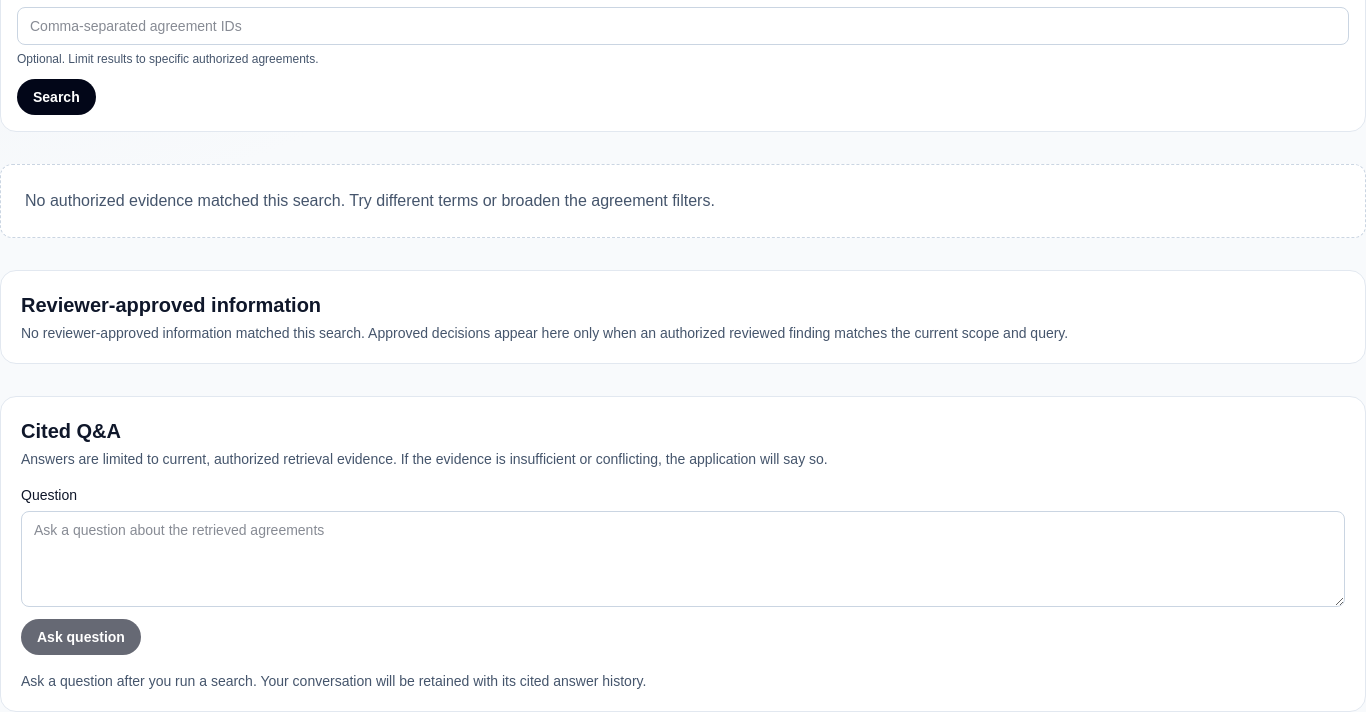
Scenario: SearchWorkspace › submits a question through the scoped thread adapter
(page scrolled)
Type "What are the termination rights?" into the text box labelled "Question" at (683, 559), box [21, 511, 1345, 607]
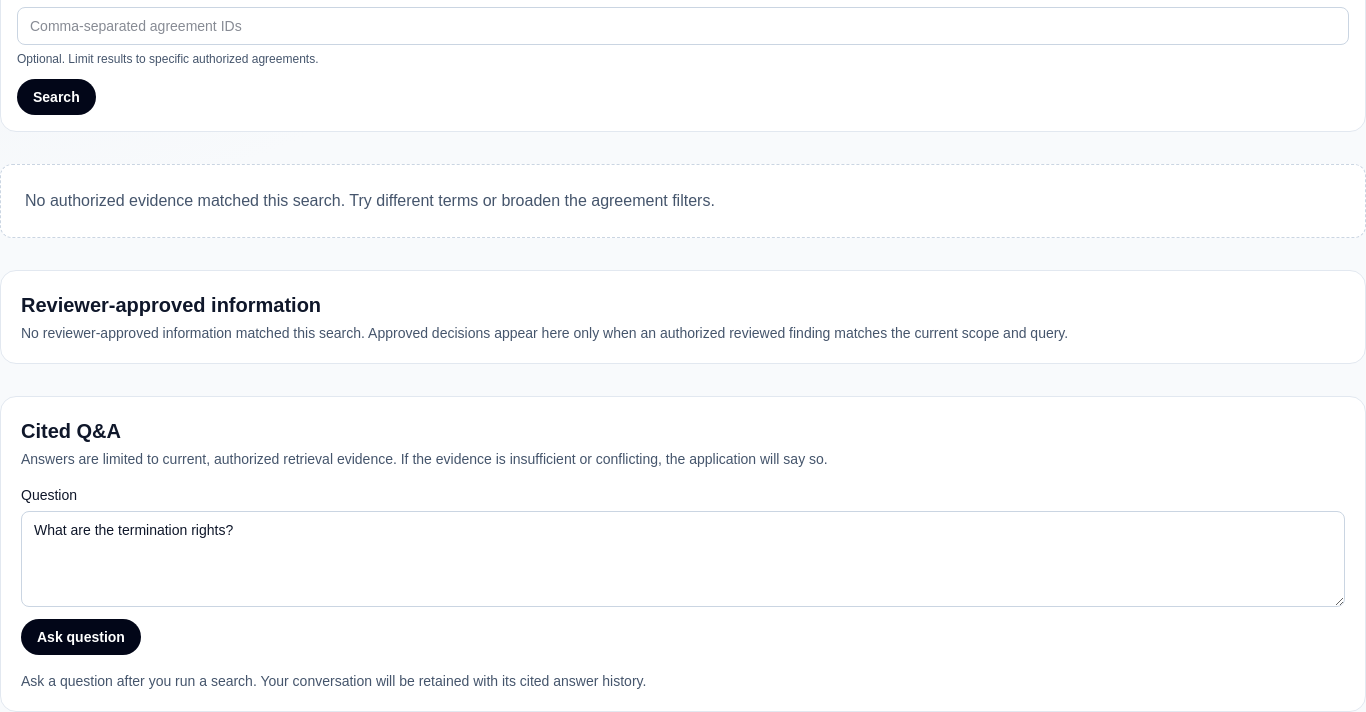
Click the button "Ask question" at (81, 637), box [21, 619, 141, 655]
(page scrolled)
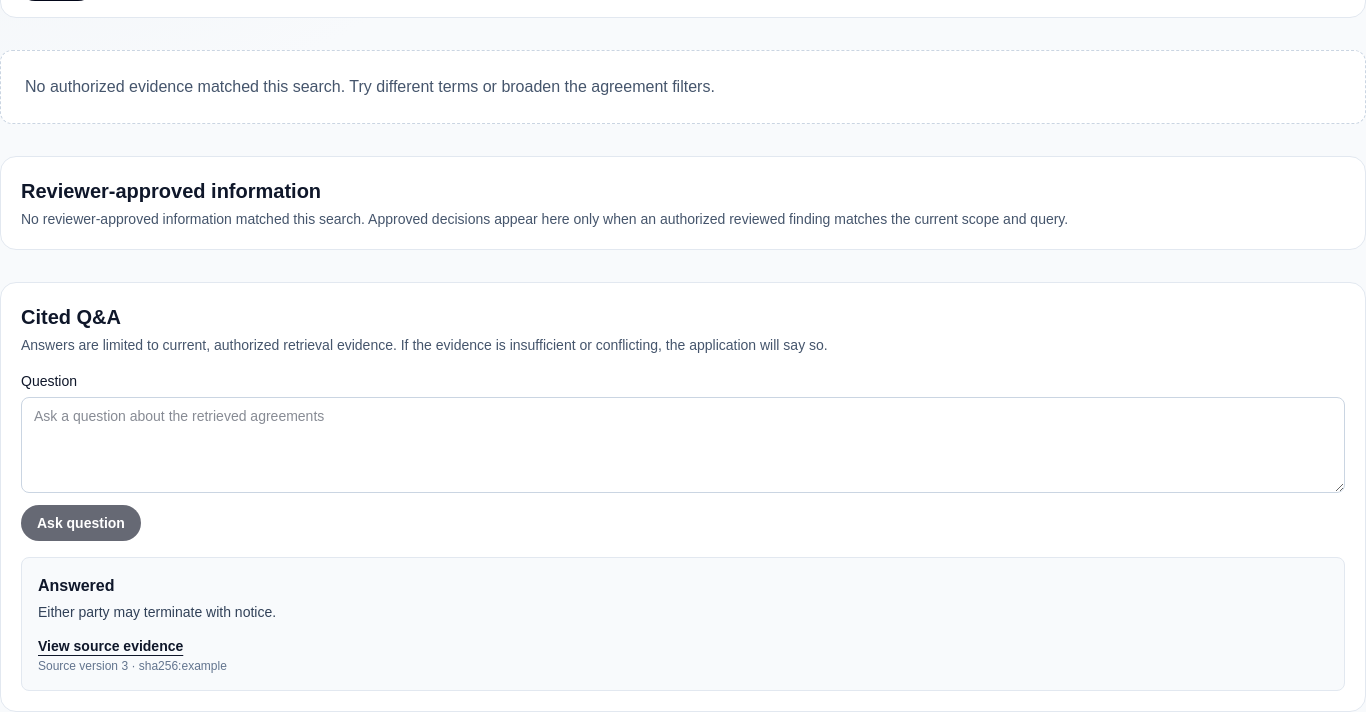
Check: the text "Either party may terminate with notice." is shown, box [38, 604, 276, 620]
Check: the text "Source version 3 · sha256:example" is shown, box [38, 659, 227, 673]
